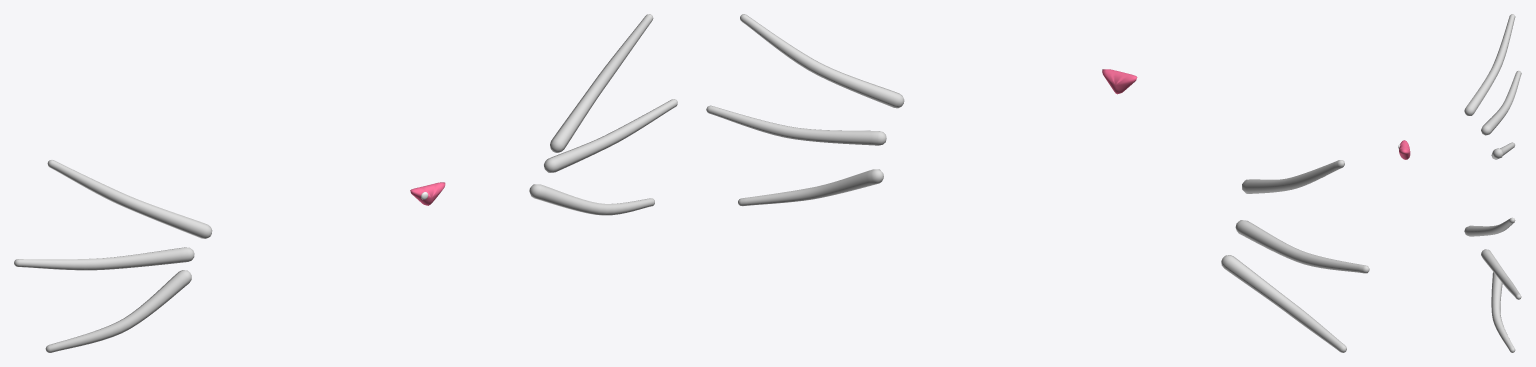
The model's file is cat-whiskers.glb.
3 renders of one model, left to right at view 1: azimuth 30°, elevation 25°; view 2: azimuth 150°, elevation 25°; view 3: azimuth 270°, elevation 25°, orthographic. The views are drawn at different scales.
Visible parts, largest first — view 1: cat_whiskers; view 2: cat_whiskers, cat_whiskers_nose; view 3: cat_whiskers, cat_whiskers_nose.
Boxes of the visible parts, x1,y1,x2,y2 form: cat_whiskers: (14, 14, 677, 352); cat_whiskers: (706, 14, 1369, 352); cat_whiskers_nose: (1102, 69, 1137, 94); cat_whiskers: (1464, 14, 1521, 352); cat_whiskers_nose: (1399, 140, 1410, 159).
Bounding box in the file's own units: 1.71 × 0.4736 × 0.3939.
